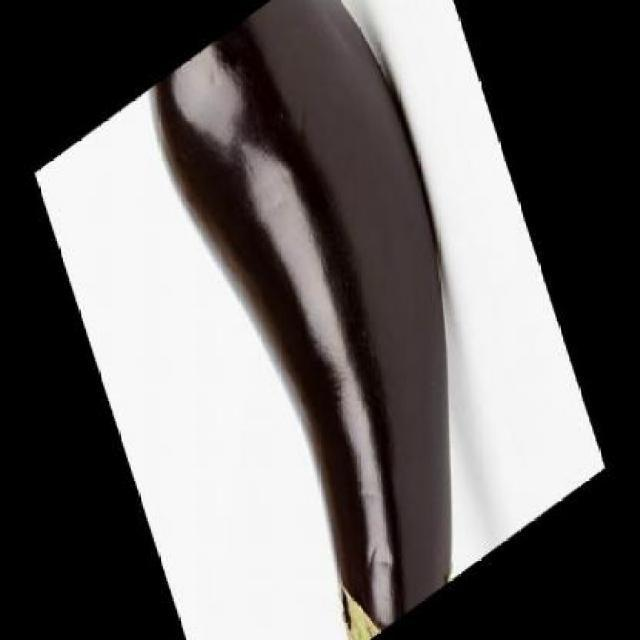eggplant: (142, 0, 536, 638)
